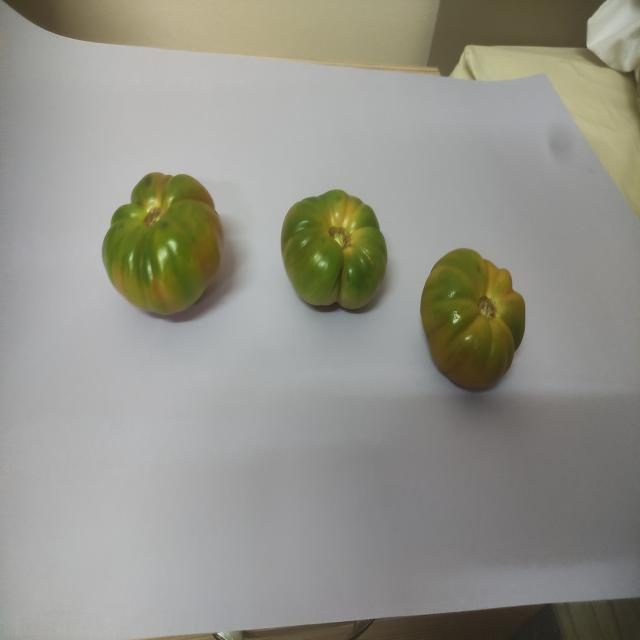yesil: (94, 148, 233, 326), (411, 228, 536, 406), (263, 182, 399, 322)
